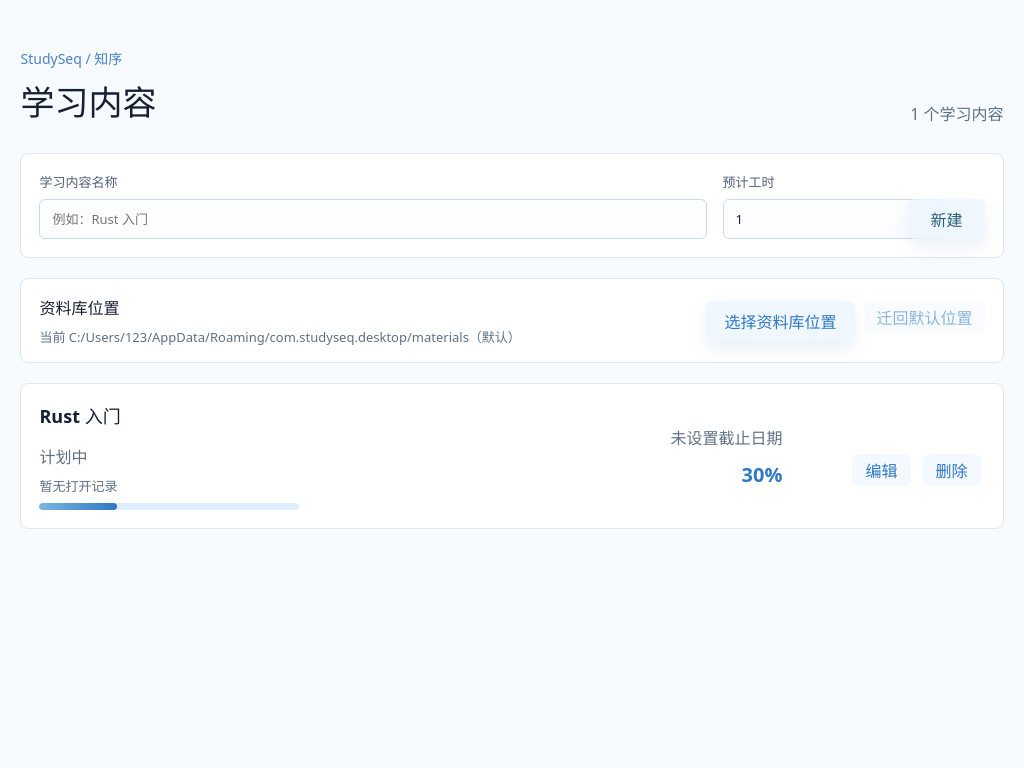
HomePage › shows an in-app confirmation before deleting a learning content
Expected: the heading "Rust 入门" is shown, x1=40 y1=404 x2=121 y2=428
Click the button with aria-label "删除 Rust 入门" at coordinates (952, 470), box x1=922 y1=454 x2=980 y2=486
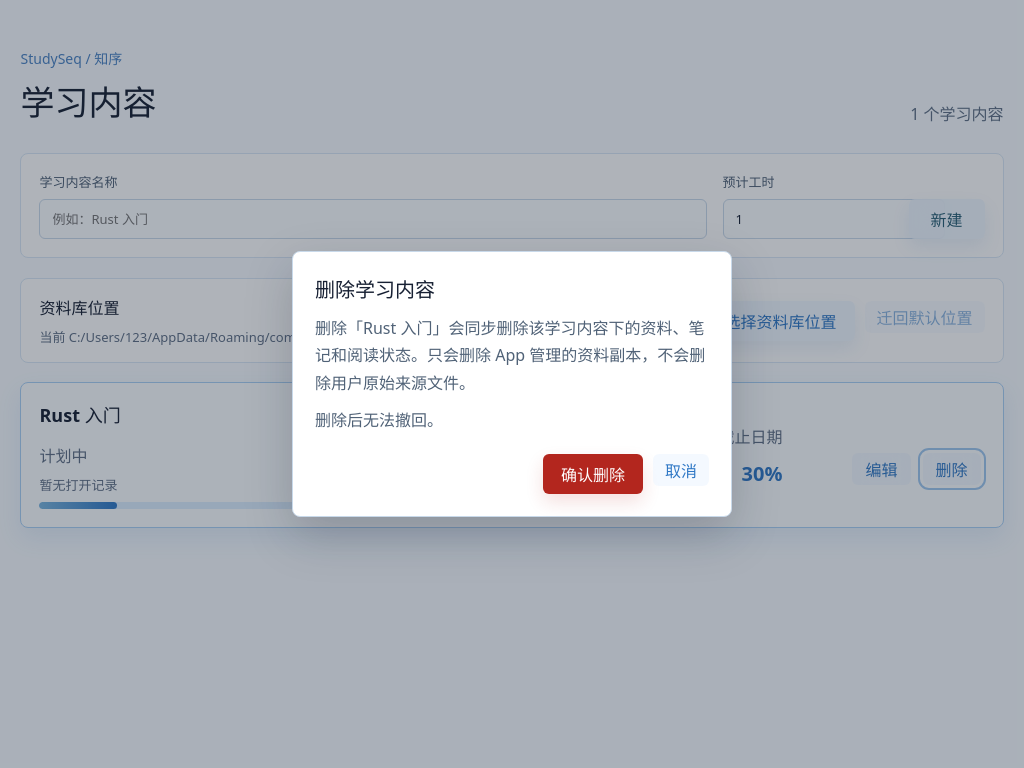
Expected: the text "删除「Rust 入门」会同步删除该学习内容下的资料、笔记和阅读状态。只会删除 App 管理的资料副本，不会删除用户原始来源文件。" is shown, x1=315 y1=315 x2=709 y2=397
Click the button "确认删除" at coordinates (593, 474), box x1=543 y1=454 x2=643 y2=494
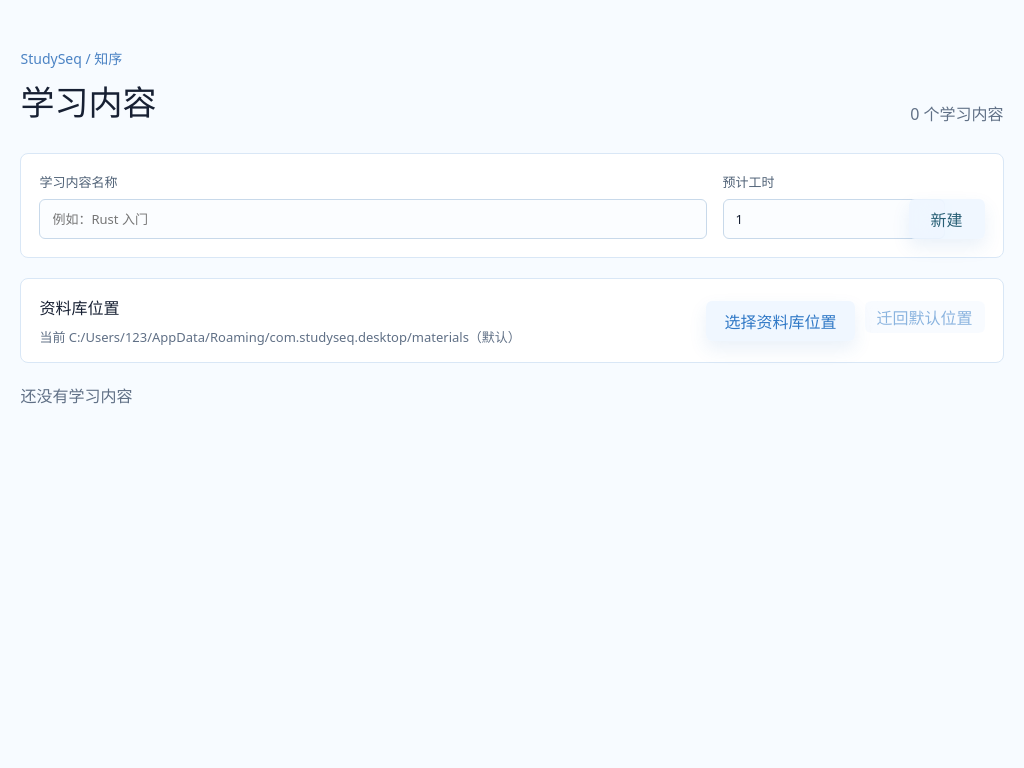
Expected: the heading "删除学习内容" is gone
